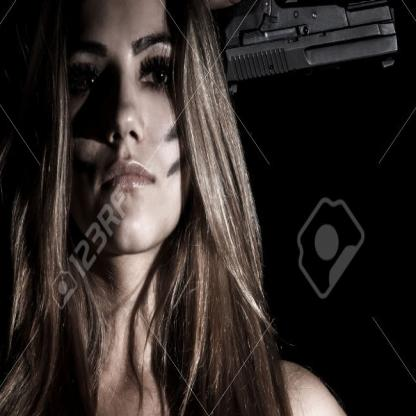gun: (200, 0, 402, 85)
